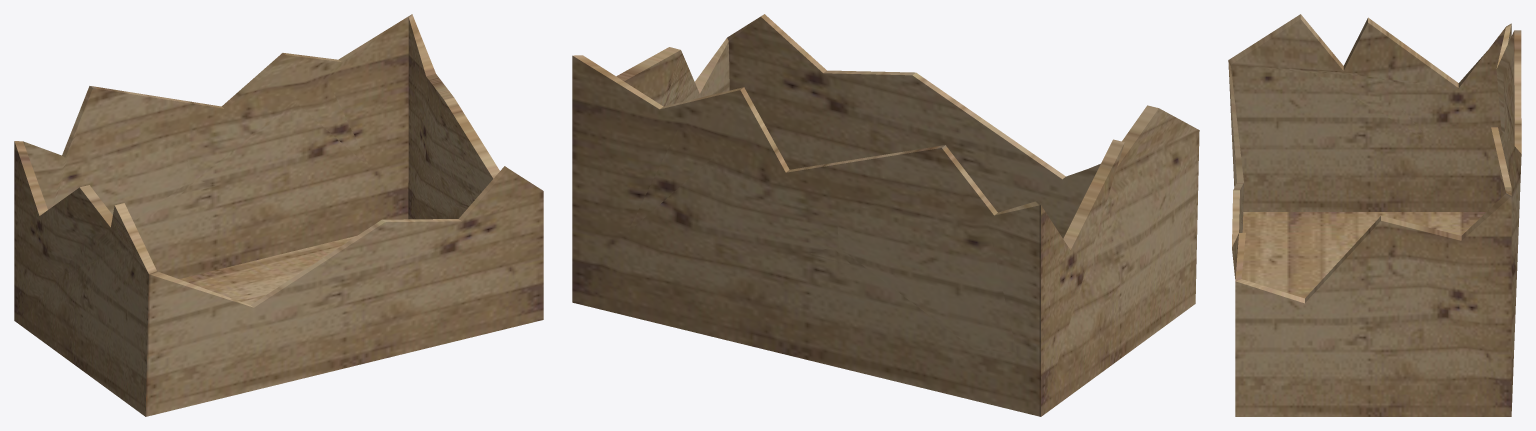
The model's file is SM_Crate_Wooden_04.fbx.
The picture shows the model from 3 angles, left to right: view 1: azimuth 30°, elevation 25°; view 2: azimuth 150°, elevation 25°; view 3: azimuth 270°, elevation 25°; orthographic projection. The views are drawn at different scales.
Visible parts, largest first — view 1: SM_Crate_Wooden_04; view 2: SM_Crate_Wooden_04; view 3: SM_Crate_Wooden_04.
Part boxes in pixels (left/top/right/bottom): SM_Crate_Wooden_04: left=14, top=14, right=543, bottom=416; SM_Crate_Wooden_04: left=572, top=14, right=1199, bottom=416; SM_Crate_Wooden_04: left=1228, top=14, right=1521, bottom=416.
Size of the model in its own units: 141 by 71.42 by 84.92.
